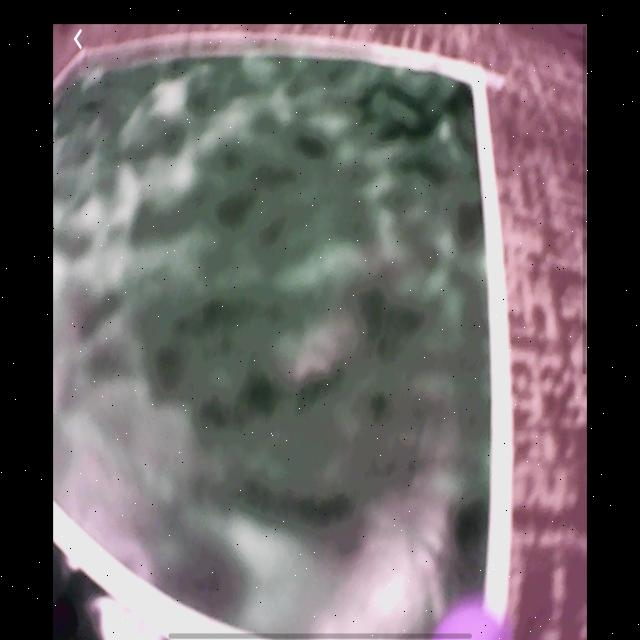ball: (432, 593, 513, 639)
